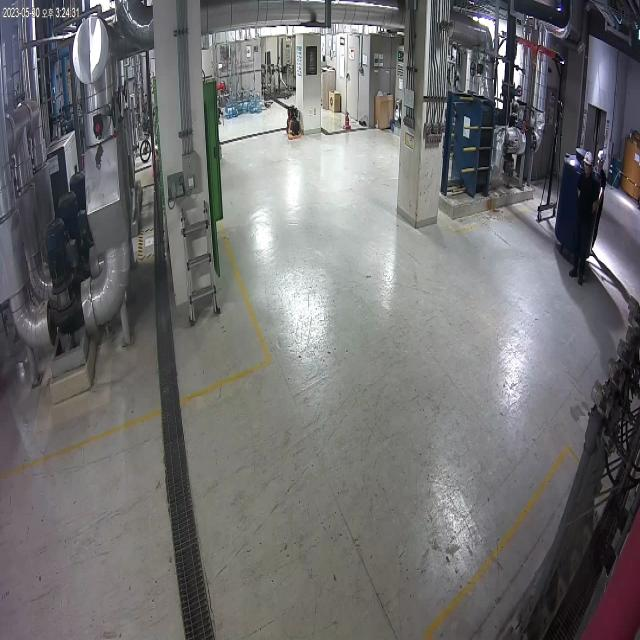Water Tank: (548, 145, 606, 264)
worker: (566, 147, 600, 293), (593, 138, 607, 266)
